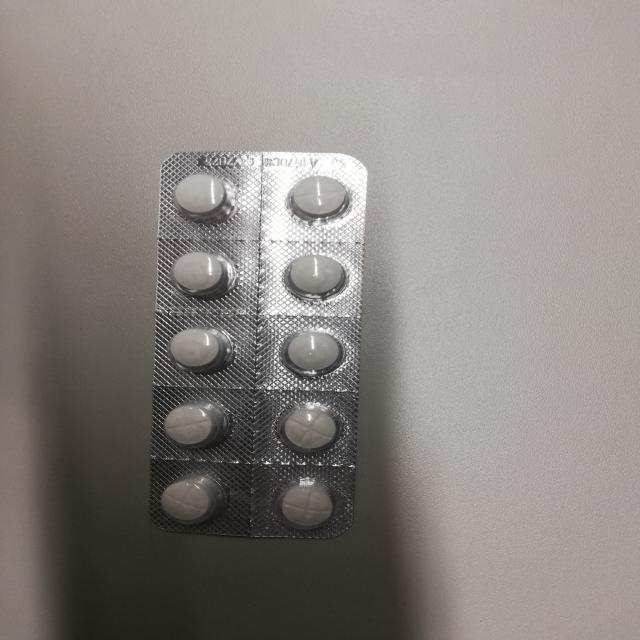Pill: (272, 165, 363, 228), (266, 245, 356, 304), (157, 316, 237, 381), (270, 471, 350, 535), (270, 396, 352, 458), (144, 472, 232, 529), (161, 165, 243, 222), (163, 239, 233, 304), (159, 396, 230, 455), (276, 325, 348, 379)
